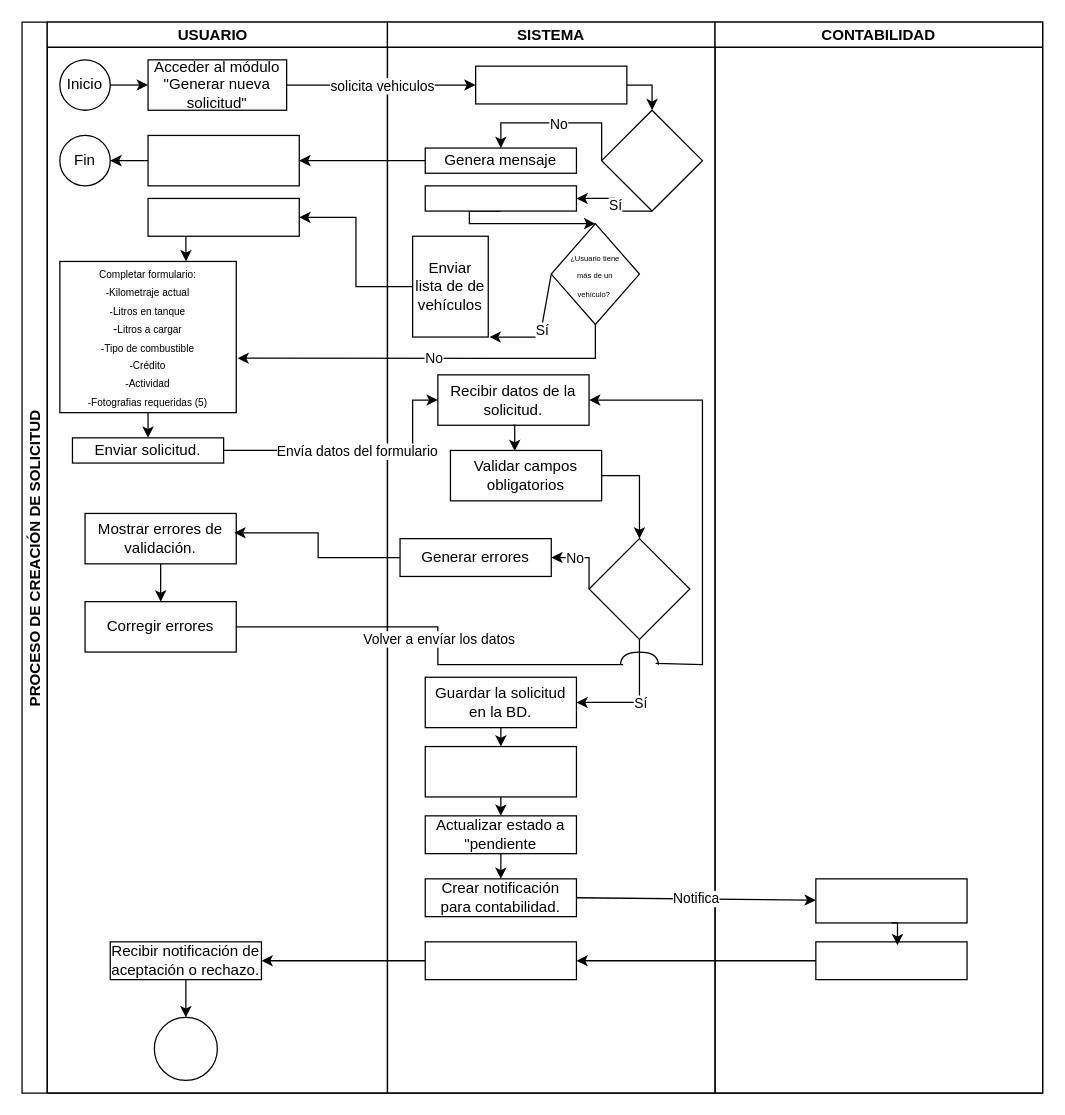
Some shapes in this 1065 by 1115 pixel diagram are drawn without their labels. The shapes that lost their labels are listed below. From the top down, each one's centre as x and y in pixels, then its label:
point 550,84: Consultar vehículos asignados al usuario.
point 223,160: Mostrar: "No tienes vehiculo asignado"
point 651,160: ¿Usuario tiene vehiculos asignasdos?
point 223,216: Seleccionar vehículo
point 500,198: Contar vehículos
point 639,588: ¿Todos los campos son válidos?
point 500,771: Guardar evidencias fotográficas.
point 891,900: Recibir notificación de nueva solicitud.
point 500,960: Generar confirmación o rechazo
point 891,960: Aceptar/Rechazar solicitud
point 185,1048: Fin.
